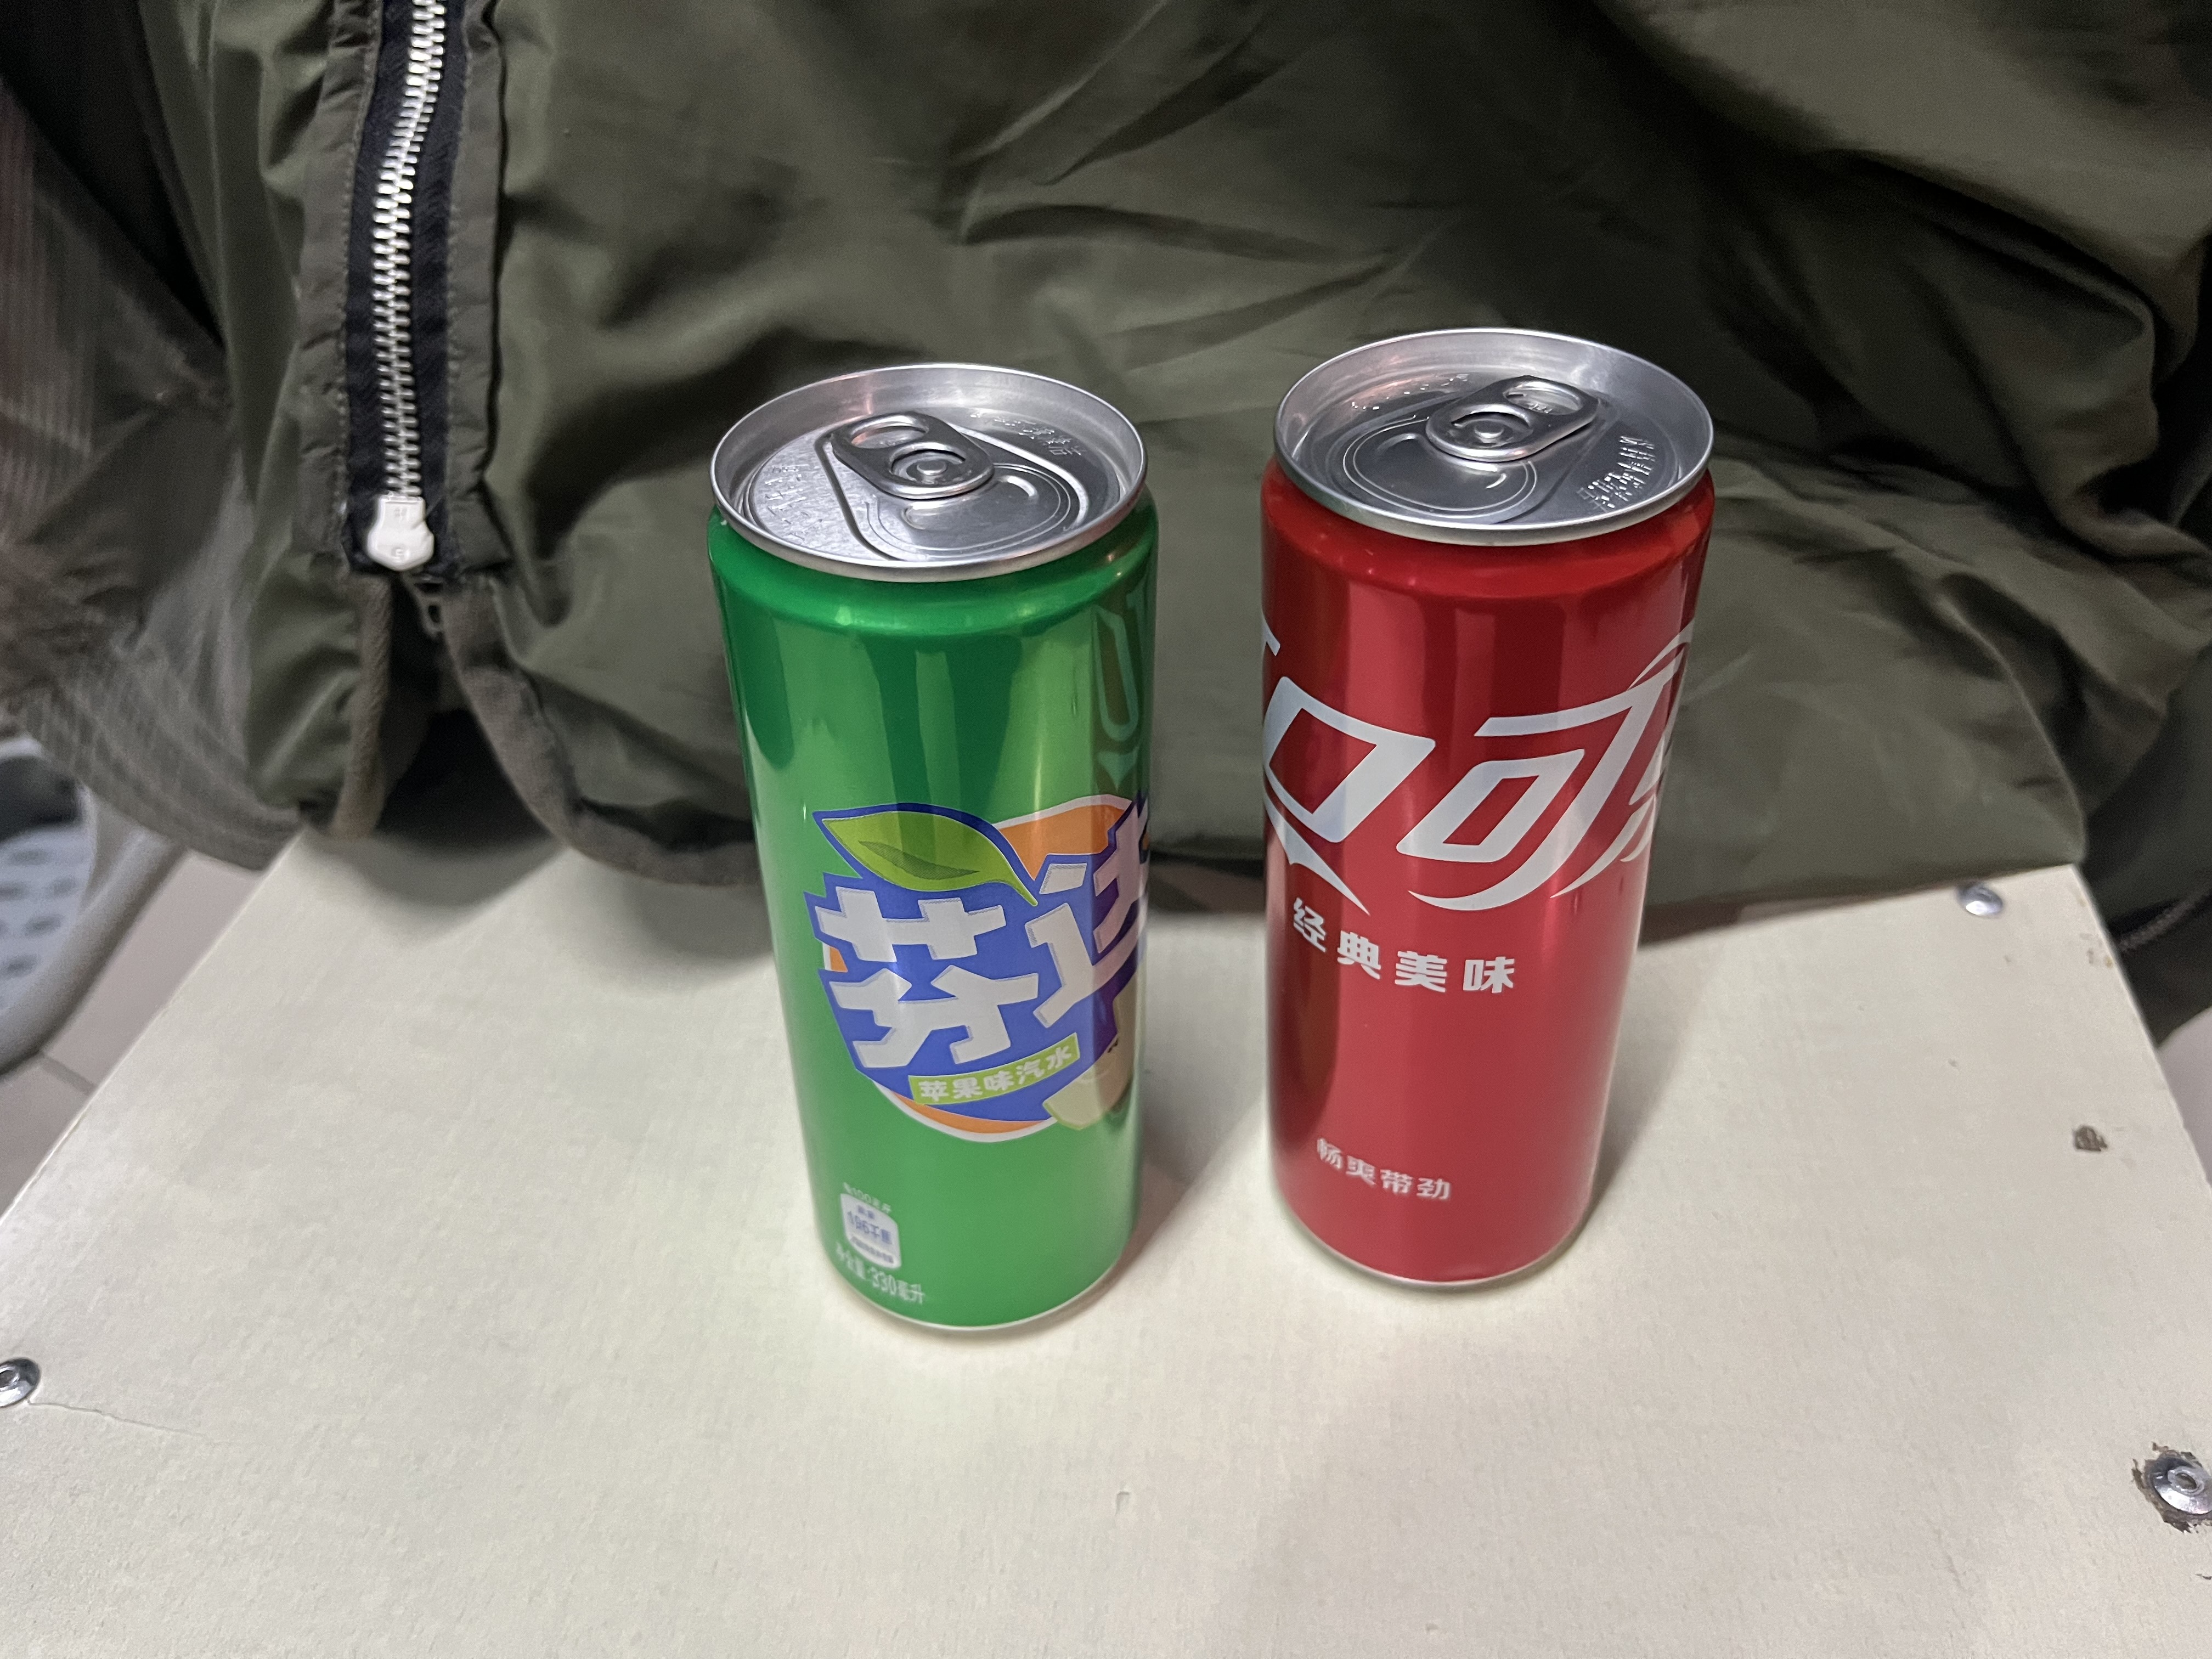CocaCola: (1261, 328, 1716, 1290)
FANTA_Apple: (709, 364, 1158, 1331)
